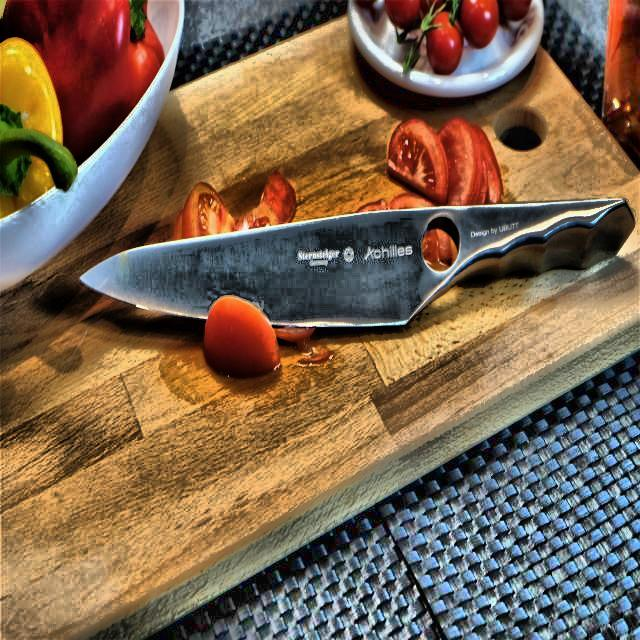knife: (77, 181, 640, 347)
